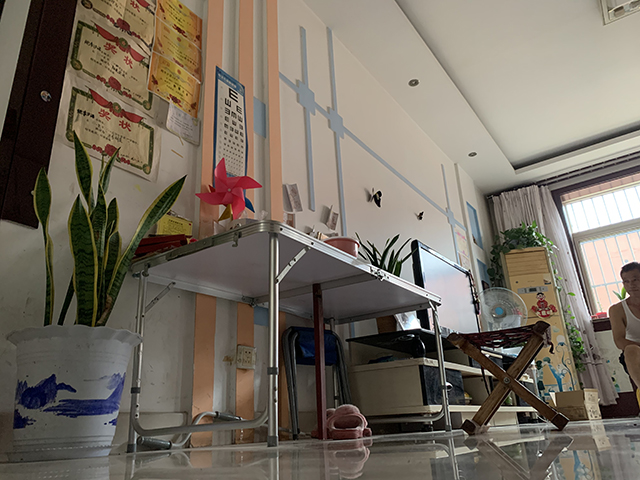cabinet: (344, 330, 543, 432)
curtain: (488, 183, 619, 406)
slippers: (310, 403, 374, 441)
stool: (446, 320, 573, 437)
table: (126, 217, 453, 454)
